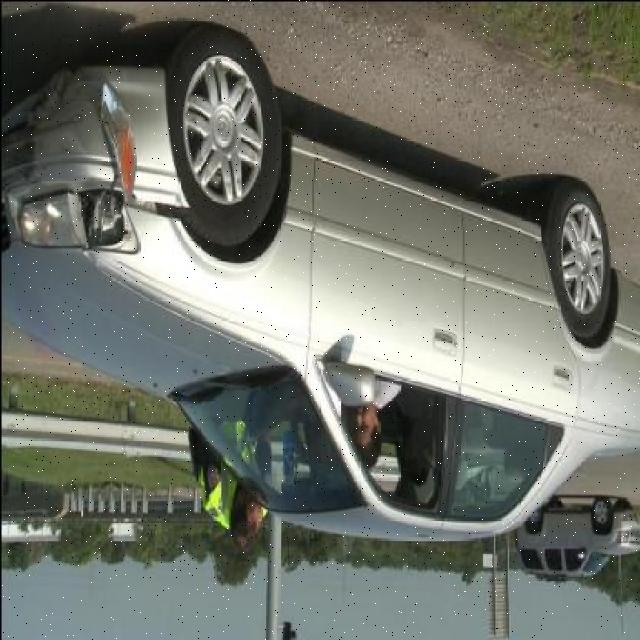damage: (86, 75, 142, 195), (1, 64, 82, 135), (75, 188, 124, 249), (0, 130, 35, 195), (122, 187, 186, 221)
